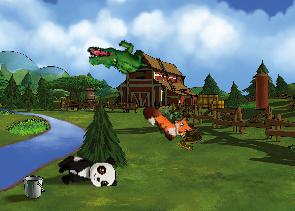crocodile: (85, 34, 151, 82)
fox: (139, 89, 200, 150)
panda: (57, 155, 117, 188)
